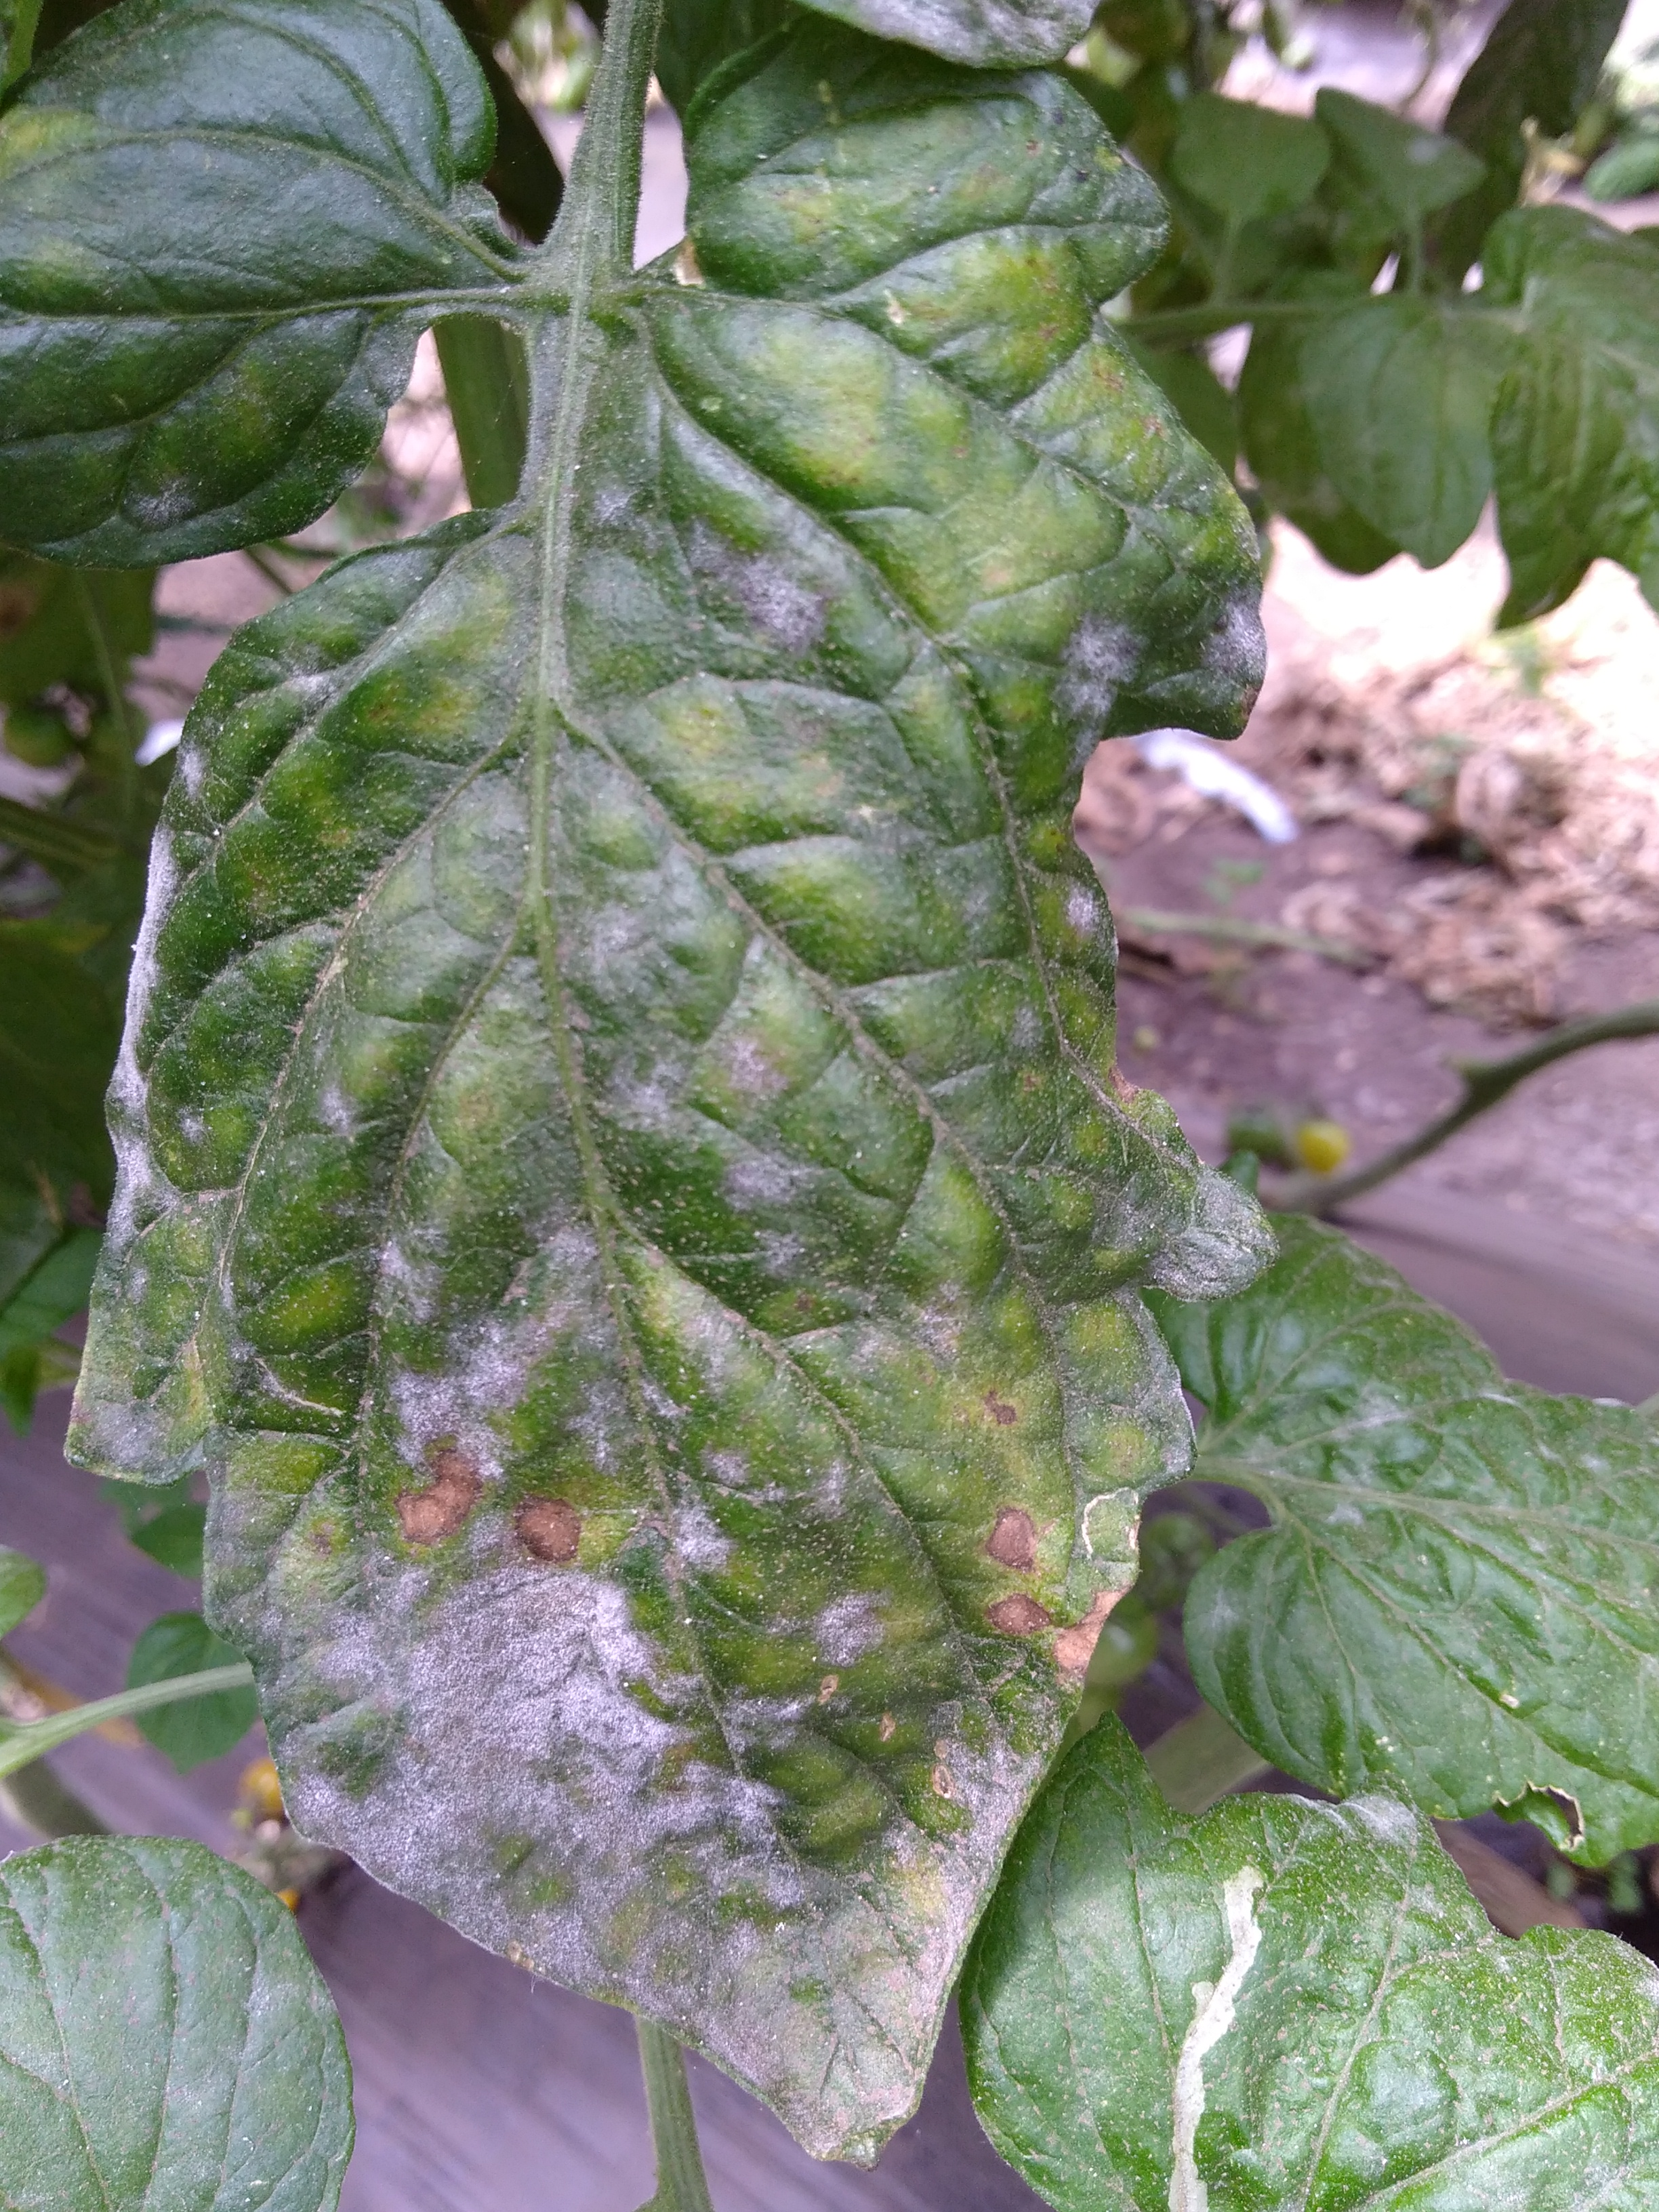blanca: (357, 1568, 695, 1916), (427, 1268, 594, 1463), (633, 1057, 716, 1137)
